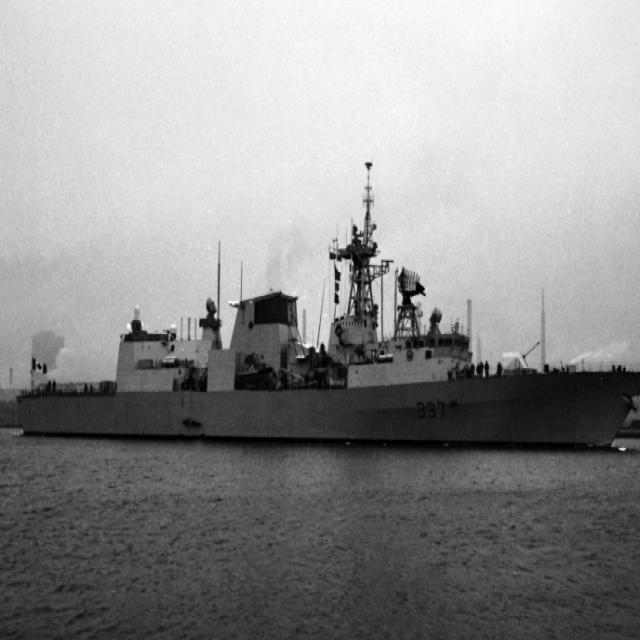Fragata: (11, 139, 640, 459)
